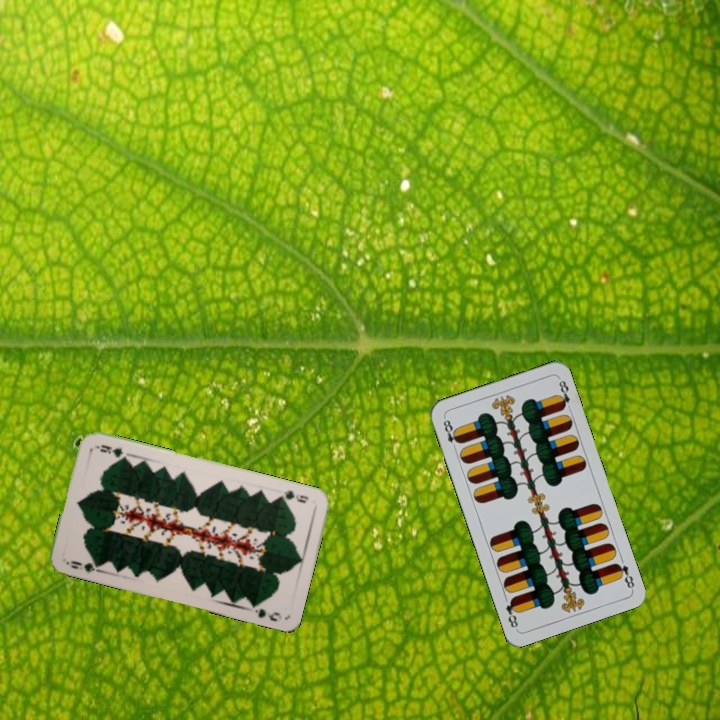E8: (439, 414, 463, 453), (611, 559, 637, 592)
G9: (62, 556, 104, 575), (274, 486, 311, 506)
